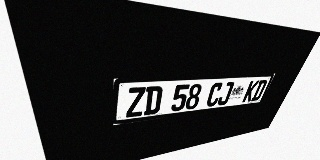5: (170, 84, 190, 112)
8: (184, 83, 204, 110)
C: (205, 82, 224, 107)
D: (143, 86, 163, 115), (251, 80, 268, 101)
J: (216, 82, 235, 106)
K: (242, 80, 260, 102)
Z: (126, 87, 146, 118)
